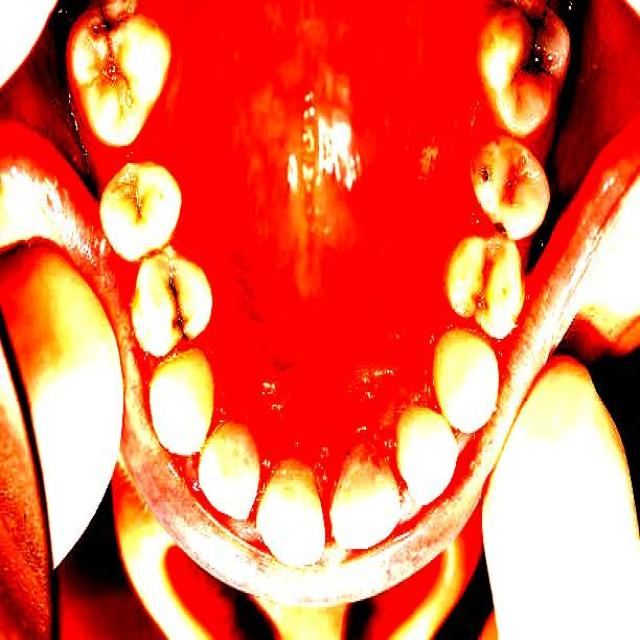caries: (492, 0, 562, 107), (84, 2, 131, 94), (150, 267, 192, 342), (118, 173, 156, 236), (487, 210, 525, 263), (476, 152, 502, 200)
